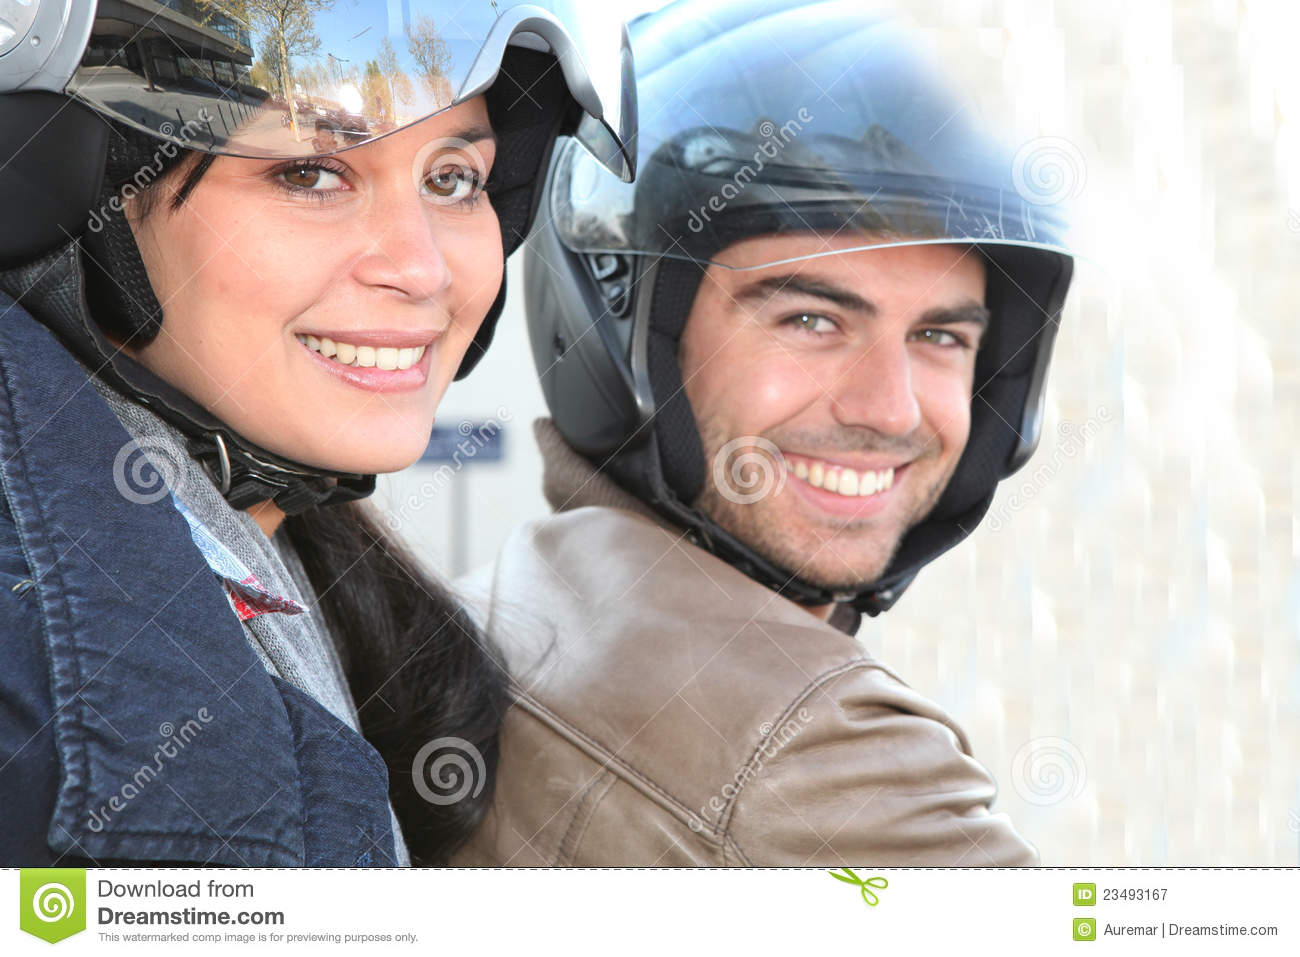helmet: (545, 5, 1082, 573)
